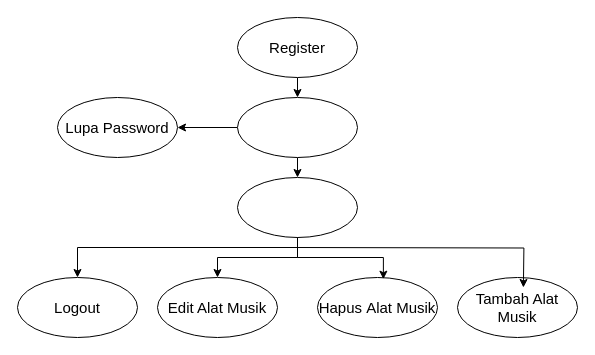
Some shapes in this 595 by 355 pixel diagram are drawn without their labels. The shapes that lost their labels are listed below. From the top down, each one's centre as x and y in pixels, then its label:
At (x=297, y=127): "Login".
At (x=297, y=207): "Dashboard".
